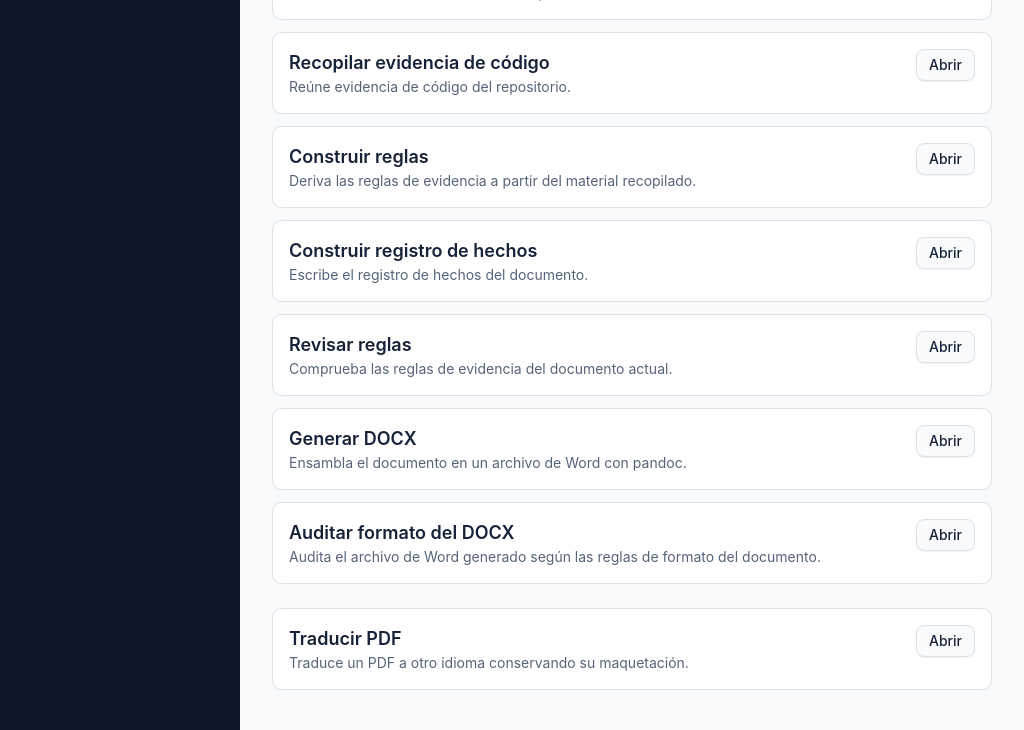
Test case: tools screen › renders the specialist tools in Spanish and opens one
(page scrolled)
Expected: the button with aria-label "Abrir Revisar reglas" is shown, [916,330,975,362]
Expected: the button with aria-label "Abrir Traducir PDF" is shown, [916,624,975,656]
What coordinates should you click on to do the following:
click the button with aria-label "Abrir Generar DOCX"
I would click on:
 (946, 440)
Its box is [916,424,975,456].
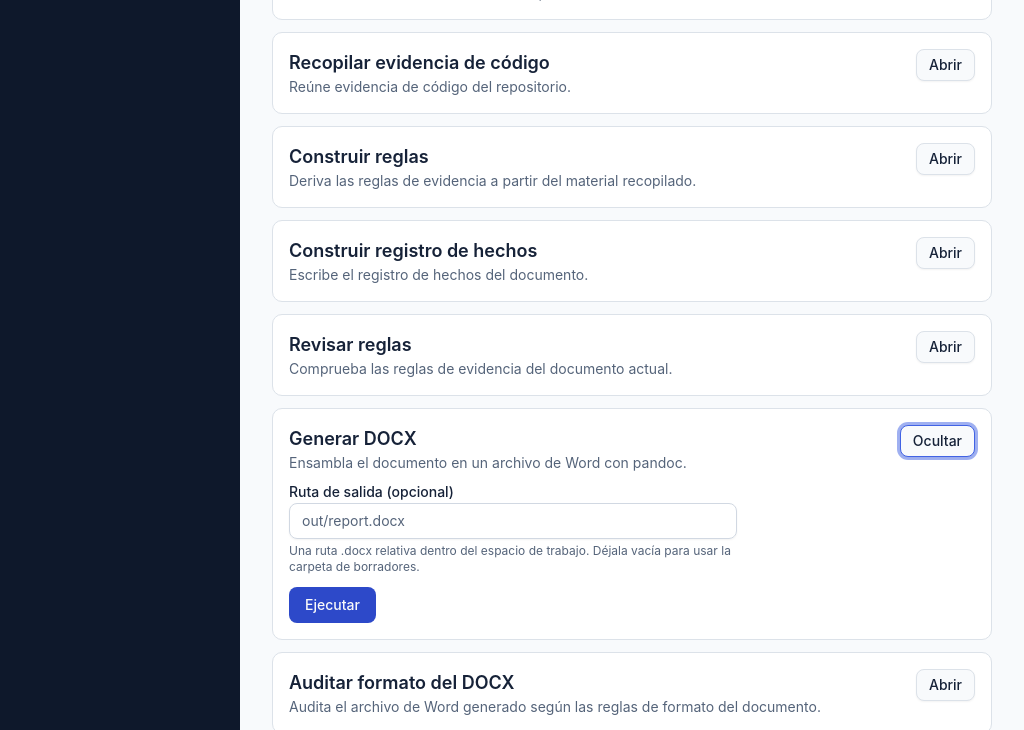
Now the button with aria-label "Ejecutar Generar DOCX" is shown, box [289,586,376,622]
